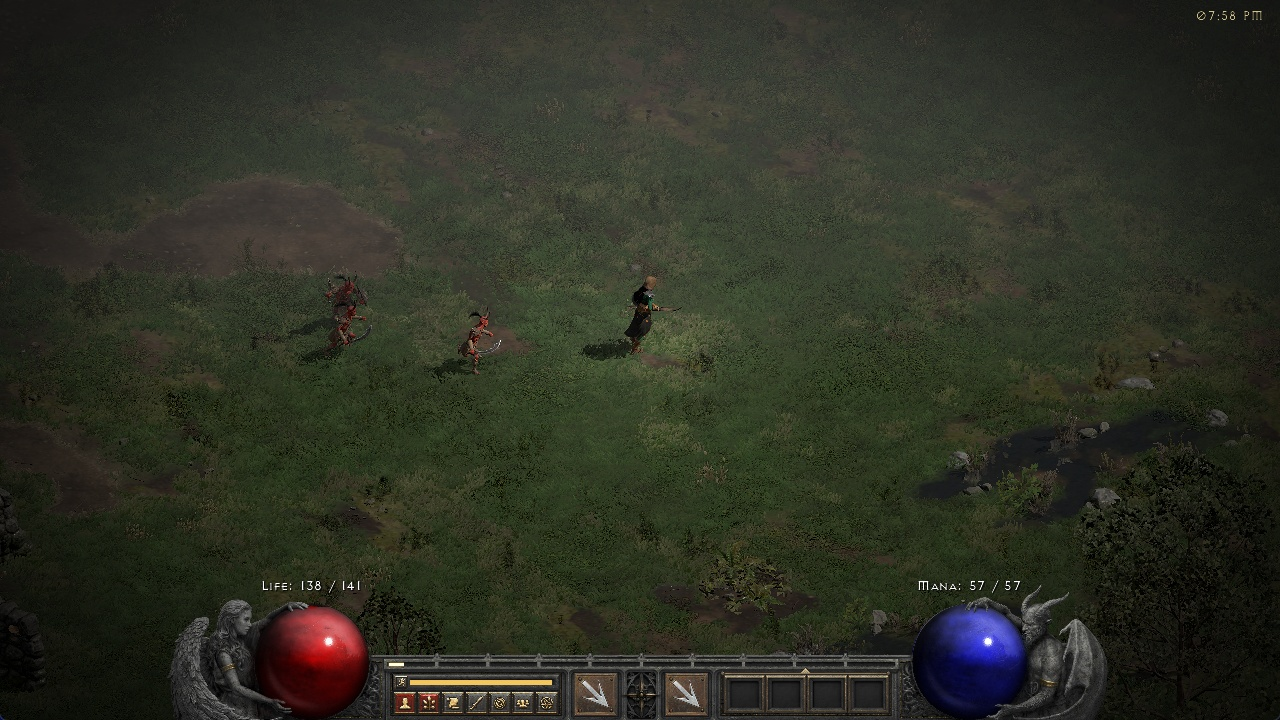fallen: (458, 309, 504, 376), (326, 306, 372, 352), (321, 269, 369, 305)
